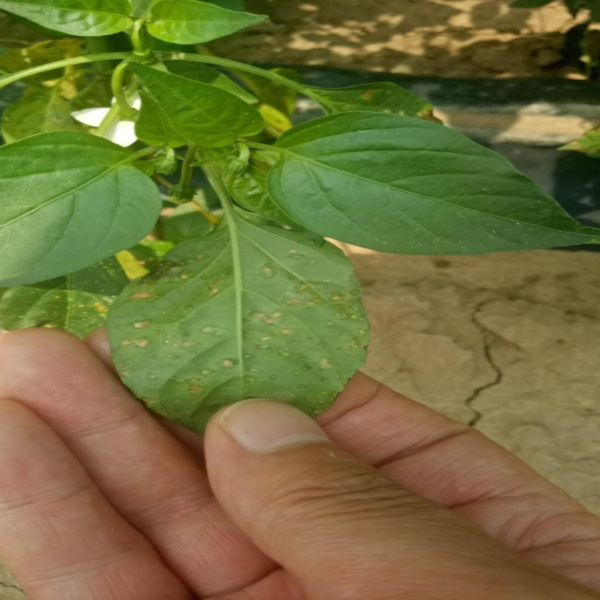Anthrax: (109, 213, 367, 426)
